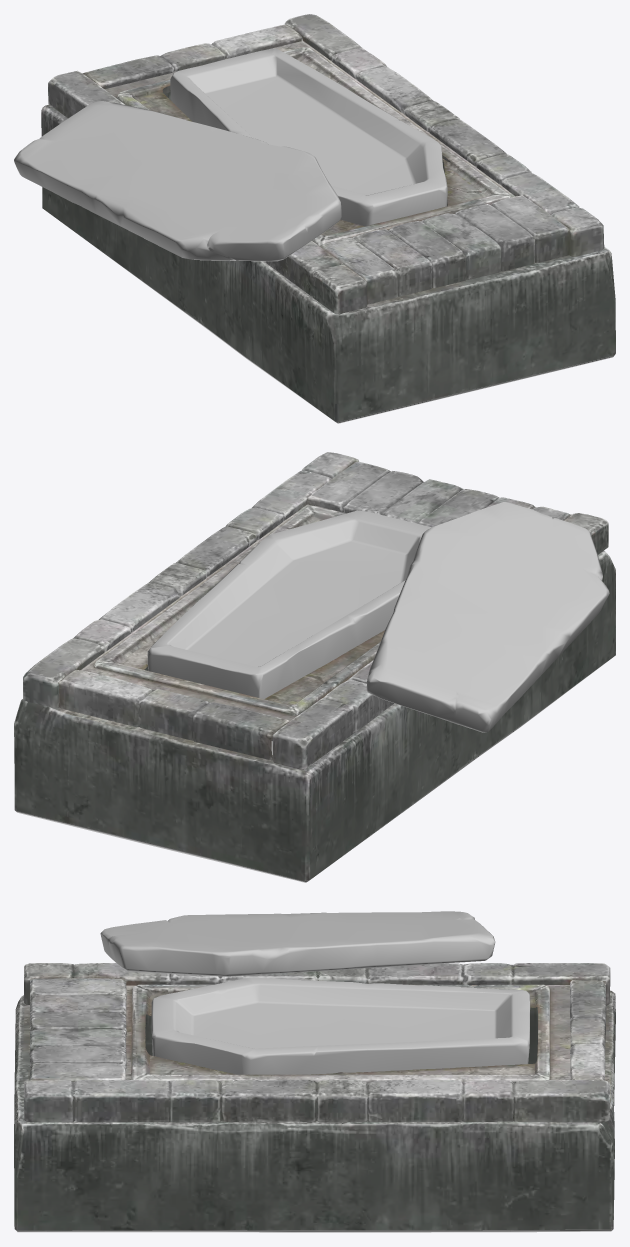
The picture shows the model from 3 angles, top to bottom: view 1: azimuth 30°, elevation 25°; view 2: azimuth 150°, elevation 25°; view 3: azimuth 270°, elevation 25°; orthographic projection. The views are drawn at different scales.
Parts seen in each view (by area): view 1: SM_Tombstone_Stone_Base_05_LOD0; view 2: SM_Tombstone_Stone_Base_05_LOD0; view 3: SM_Tombstone_Stone_Base_05_LOD0.
Boxes of the visible parts, x1=… form: SM_Tombstone_Stone_Base_05_LOD0: x1=14, y1=14, x2=615, y2=423; SM_Tombstone_Stone_Base_05_LOD0: x1=14, y1=452, x2=615, y2=882; SM_Tombstone_Stone_Base_05_LOD0: x1=14, y1=911, x2=615, y2=1232.
Size of the model in its own units: 2.73 by 1.21 by 3.67.
